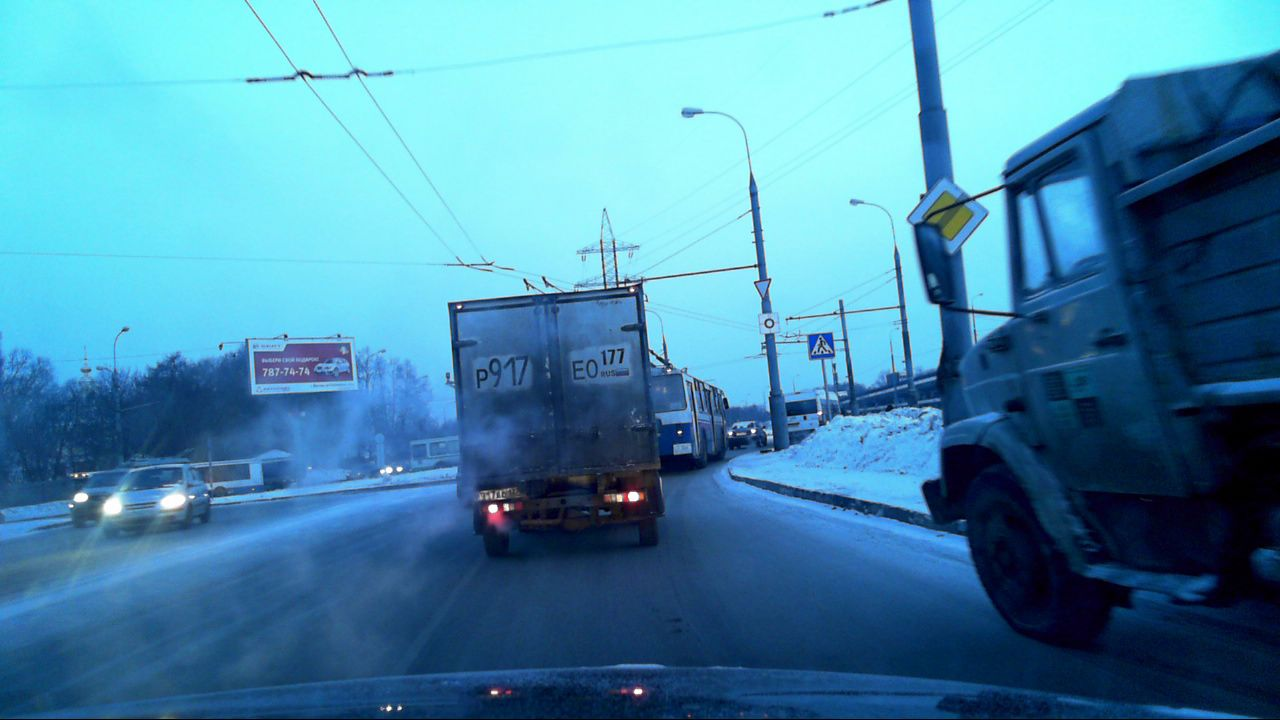main road: (908, 179, 990, 257)
